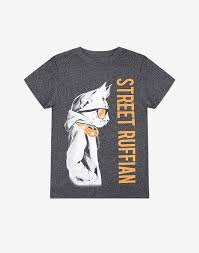cat: (64, 79, 111, 128)
